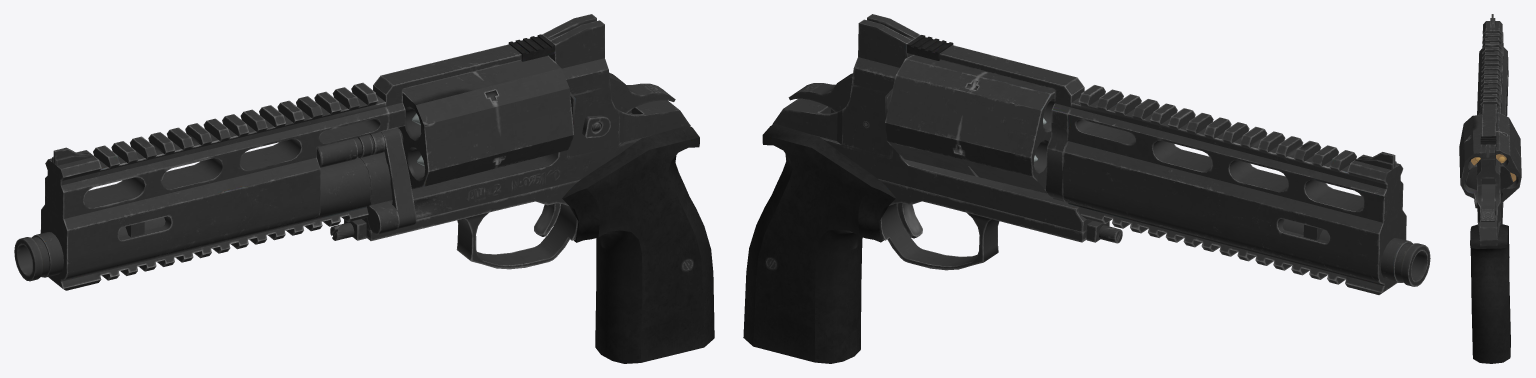
The model's file is rsh12Revolver.fbx.
The picture shows the model from 3 angles, left to right: view 1: azimuth 30°, elevation 25°; view 2: azimuth 150°, elevation 25°; view 3: azimuth 270°, elevation 25°; orthographic projection. The views are drawn at different scales.
Parts seen in each view (by area): view 1: 1_l, 9_l, 6_l, 7_l, 2_l, 5_l, 11_l, 4_l, 3_l, 8_l, 12_l, 17_l; view 2: 1_l, 9_l, 6_l, 7_l, 2_l, 11_l, 5_l, 3_l, 8_l, 12_l, 17_l; view 3: 9_l, 6_l, 7_l, 2_l, 1_l, 5_l, 8_l, 10_l.005.
Boxes of the visible parts, x1,y1,x2,y2 form: 1_l: [40, 95, 388, 280]; 9_l: [562, 125, 714, 363]; 6_l: [398, 55, 573, 189]; 7_l: [362, 14, 690, 230]; 2_l: [45, 82, 378, 290]; 5_l: [360, 34, 555, 234]; 11_l: [366, 179, 580, 269]; 4_l: [316, 127, 416, 228]; 3_l: [14, 217, 165, 281]; 8_l: [609, 73, 675, 112]; 12_l: [330, 122, 600, 240]; 17_l: [534, 203, 560, 236]; 1_l: [1062, 97, 1406, 284]; 9_l: [743, 124, 895, 363]; 6_l: [885, 55, 1054, 193]; 7_l: [772, 14, 1091, 231]; 2_l: [1068, 85, 1403, 294]; 11_l: [878, 179, 1086, 270]; 5_l: [907, 35, 1084, 202]; 3_l: [1282, 220, 1430, 286]; 8_l: [788, 73, 852, 111]; 12_l: [1086, 221, 1122, 243]; 17_l: [896, 203, 922, 238]; 9_l: [1470, 224, 1510, 363]; 6_l: [1459, 112, 1521, 202]; 7_l: [1465, 144, 1513, 245]; 2_l: [1480, 18, 1502, 107]; 1_l: [1477, 32, 1508, 116]; 5_l: [1480, 104, 1497, 148]; 8_l: [1481, 184, 1495, 221]; 10_l.005: [1496, 154, 1506, 163].
Size of the model in its own units: 342 by 164 by 50.9.
